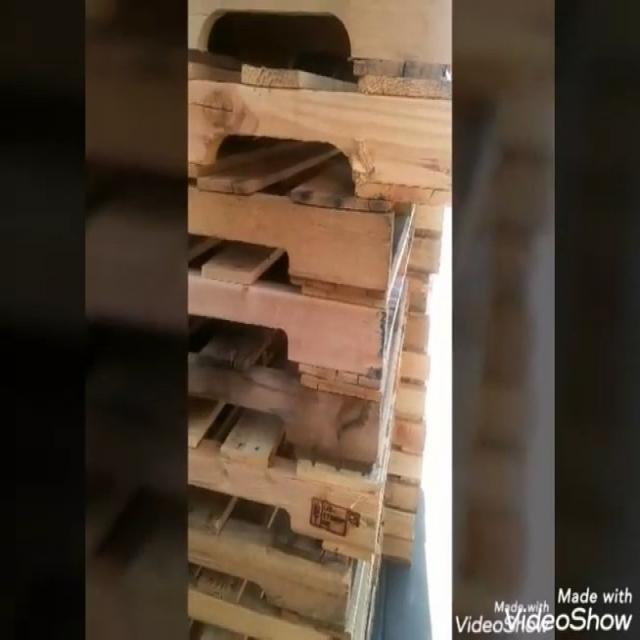Palette: (186, 0, 451, 640)
